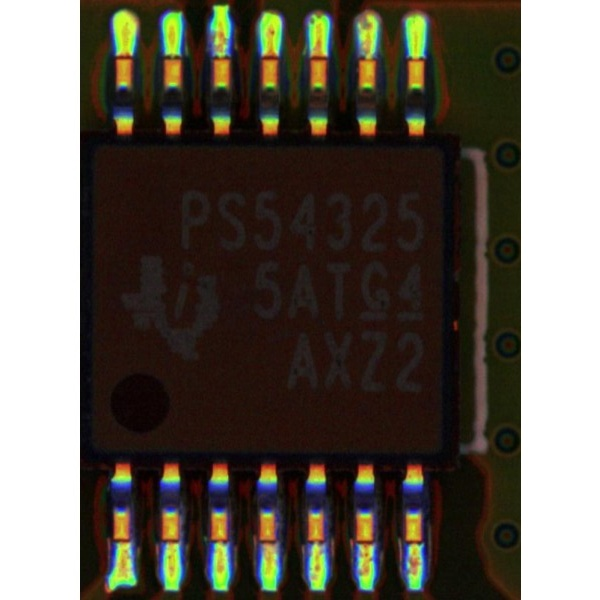Bad_podu: (118, 39, 131, 72), (312, 38, 324, 71), (262, 42, 275, 70), (262, 532, 275, 557), (359, 530, 371, 557)
